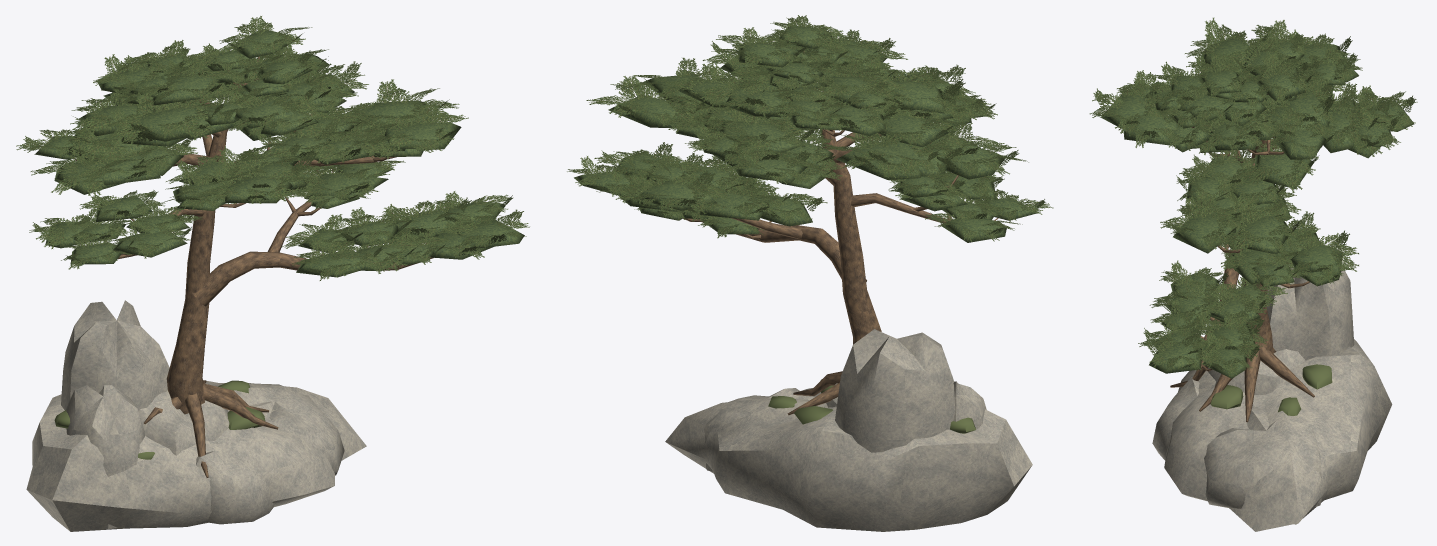
The model's file is huangshan.glb.
3 renders of one model, left to right at view 1: azimuth 30°, elevation 25°; view 2: azimuth 150°, elevation 25°; view 3: azimuth 270°, elevation 25°, orthographic. The views are drawn at different scales.
Visible parts, largest first — view 1: 黄山 · 玉屏迎客松; view 2: 黄山 · 玉屏迎客松; view 3: 黄山 · 玉屏迎客松.
Part boxes in pixels (bbox=[...]): 黄山 · 玉屏迎客松: bbox=[16, 16, 529, 531]; 黄山 · 玉屏迎客松: bbox=[567, 15, 1053, 531]; 黄山 · 玉屏迎客松: bbox=[1089, 17, 1417, 531].
Bounding box in the file's own units: 6.46 × 5.58 × 4.05.
Materials: 5 (4 with a texture image).
